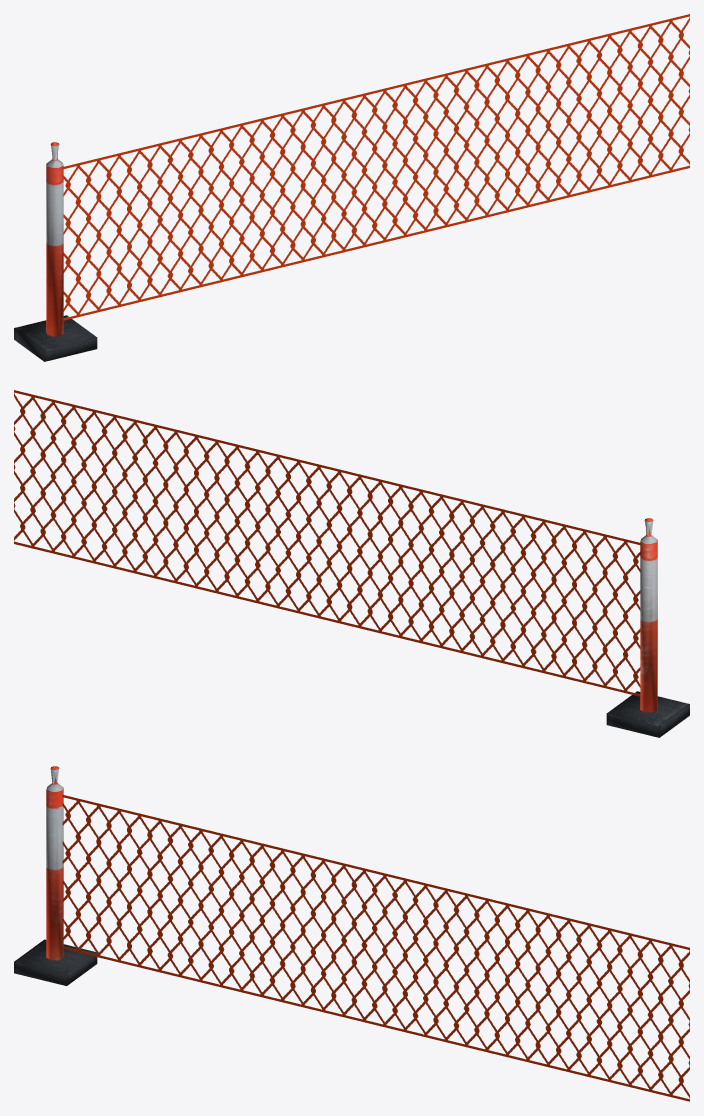
File: orangeFence_flat_2.fbx
3 views of the same model, one above another, from view 1: azimuth 30°, elevation 25°; view 2: azimuth 150°, elevation 25°; view 3: azimuth 330°, elevation 25° (orthographic).
Parts seen in each view (by area): view 1: Plane01, Duplicate01, Cylinder02, Box03; view 2: Plane01, Duplicate01, Cylinder02, Box03; view 3: Plane01, Duplicate01, Cylinder02, Box03.
Boxes of the visible parts, x1,y1,x2,y2 form: Plane01: (63,14,689,320); Duplicate01: (63,14,689,320); Cylinder02: (46,142,63,336); Box03: (14,315,97,361); Plane01: (14,390,640,696); Duplicate01: (14,390,640,696); Cylinder02: (640,518,657,712); Box03: (606,691,689,737); Plane01: (62,795,689,1101); Duplicate01: (62,795,689,1101); Cylinder02: (46,766,63,960); Box03: (14,939,97,985).
Bounding box in the file's own units: 375 × 109 × 30.
